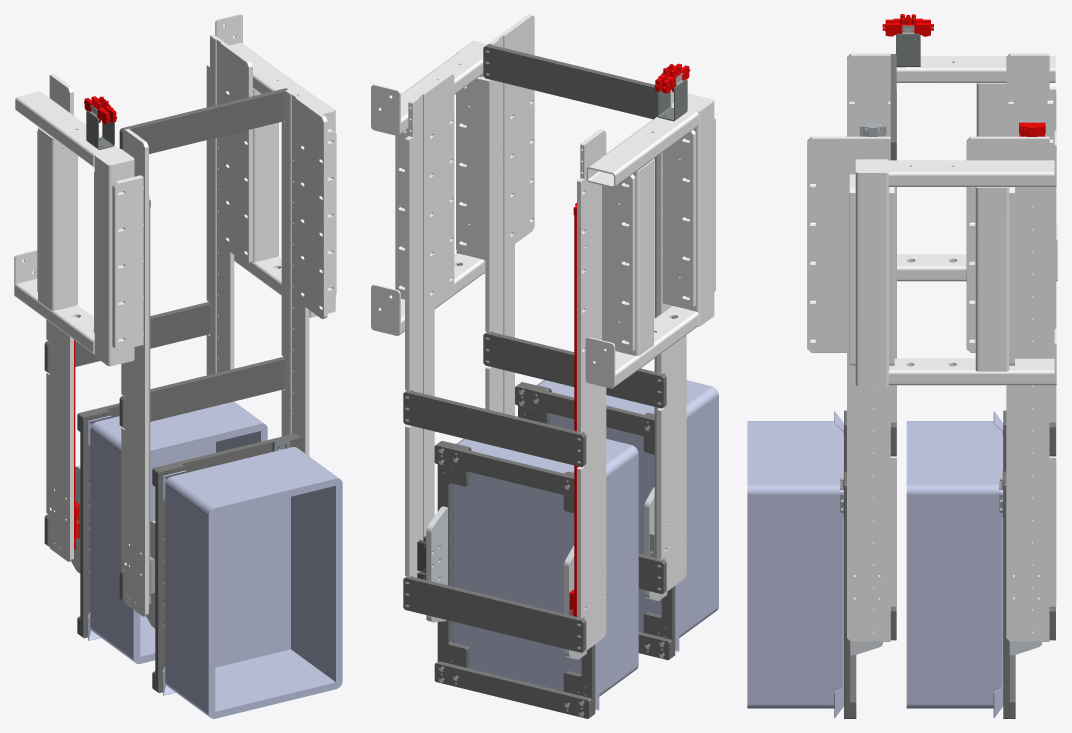
File: imm-cell-boxes-klt.glb
3 renders of one model, left to right at view 1: azimuth 30°, elevation 25°; view 2: azimuth 150°, elevation 25°; view 3: azimuth 270°, elevation 25°, orthographic. The views are drawn at different scales.
Visible parts, largest first — view 1: 17_23_504_KLT_Predalnik_dvojni_mesh, TBP_KLT002_mesh, TBP_KLT001_mesh, 17_23_502_Pladenj_KLT001_mesh, 17_23_502_Pladenj_KLT_mesh; view 2: 17_23_504_KLT_Predalnik_dvojni_mesh, TBP_KLT001_mesh, TBP_KLT002_mesh, 17_23_502_Pladenj_KLT_mesh, 17_23_502_Pladenj_KLT001_mesh; view 3: 17_23_504_KLT_Predalnik_dvojni_mesh, TBP_KLT001_mesh, TBP_KLT002_mesh, 17_23_502_Pladenj_KLT_mesh, 17_23_502_Pladenj_KLT001_mesh.
Boxes of the visible parts, bbox=[...] form: 17_23_504_KLT_Predalnik_dvojni_mesh: bbox=[14, 14, 336, 628]; TBP_KLT002_mesh: bbox=[165, 447, 342, 718]; TBP_KLT001_mesh: bbox=[90, 401, 267, 663]; 17_23_502_Pladenj_KLT001_mesh: bbox=[152, 433, 302, 695]; 17_23_502_Pladenj_KLT_mesh: bbox=[77, 403, 119, 640]; 17_23_504_KLT_Predalnik_dvojni_mesh: bbox=[371, 14, 715, 659]; TBP_KLT001_mesh: bbox=[449, 438, 638, 696]; TBP_KLT002_mesh: bbox=[537, 380, 718, 637]; 17_23_502_Pladenj_KLT_mesh: bbox=[434, 441, 599, 718]; 17_23_502_Pladenj_KLT001_mesh: bbox=[515, 382, 679, 660]; 17_23_504_KLT_Predalnik_dvojni_mesh: bbox=[807, 14, 1057, 655]; TBP_KLT001_mesh: bbox=[906, 421, 1003, 708]; TBP_KLT002_mesh: bbox=[747, 421, 843, 708]; 17_23_502_Pladenj_KLT_mesh: bbox=[993, 410, 1015, 718]; 17_23_502_Pladenj_KLT001_mesh: bbox=[834, 410, 856, 718].
Size of the model in its own units: 678 by 1648 by 754.
